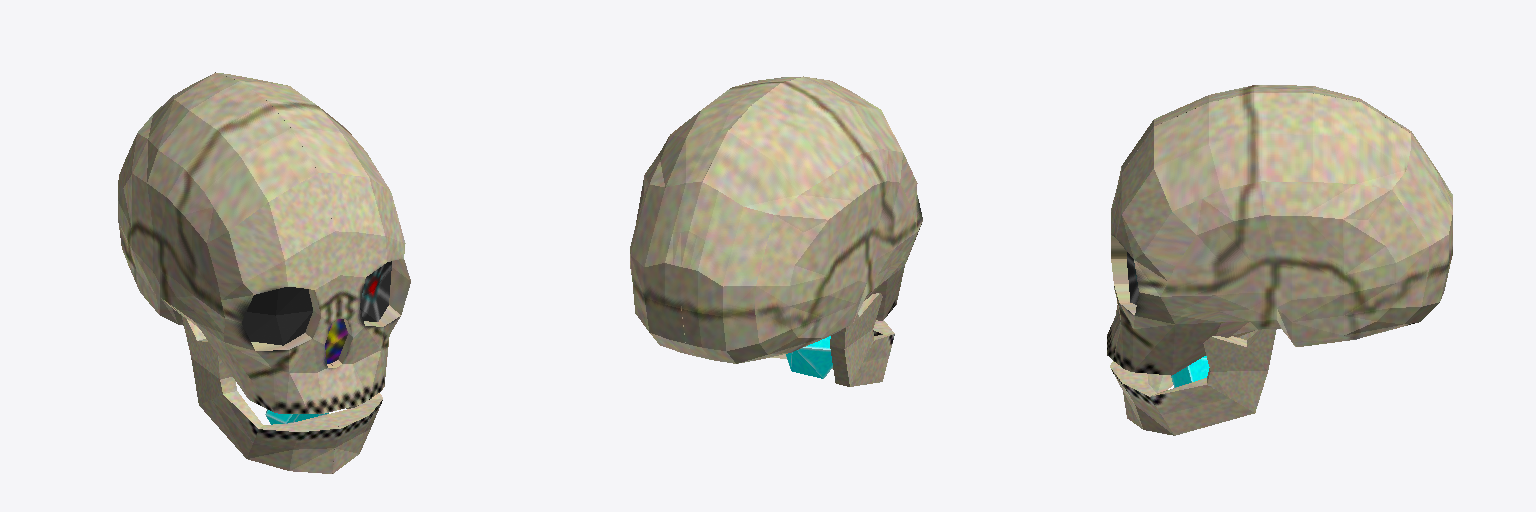
The picture shows the model from 3 angles: view 1: azimuth 30°, elevation 25°; view 2: azimuth 150°, elevation 25°; view 3: azimuth 270°, elevation 25°; orthographic projection.
Parts seen in each view (by area): view 1: Box002, Box001; view 2: Box002, Box001, Cylinder001; view 3: Box002, Box001, Cylinder001.
Boxes of the visible parts, box(x1,y1,x2,y2) form: Box002: box(118, 72, 410, 413); Box001: box(181, 315, 382, 473); Box002: box(630, 76, 922, 363); Box001: box(770, 293, 894, 386); Cylinder001: box(786, 336, 832, 378); Box002: box(1107, 85, 1452, 375); Box001: box(1110, 329, 1276, 435); Cylinder001: box(1171, 356, 1209, 387).
Size of the model in its own units: 0.8317 by 1.34 by 1.29.
3 materials, 3 textured.